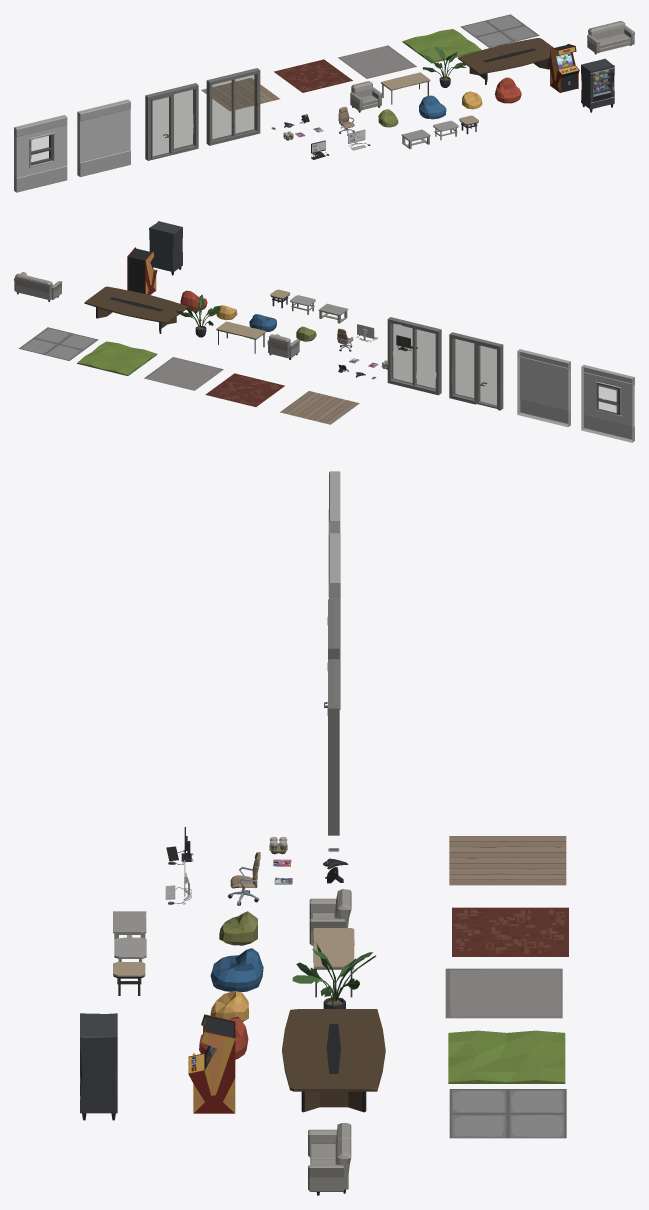
3 views of the same model, one above another, from view 1: azimuth 30°, elevation 25°; view 2: azimuth 150°, elevation 25°; view 3: azimuth 270°, elevation 25° (orthographic). The views are drawn at different scales.
Visible parts, largest first — view 1: SM_Bld_Wall_Baseboard_01, SM_Bld_Wall_Baseboard_Window_01, SM_Bld_Wall_Glass_01_Glass, SM_Prop_Table_Conference_01, SM_Bld_Wall_Glass_01, SM_Prop_VendingMachine_01, SM_Bld_Floor_Carpet_01, SM_Bld_Floor_Tiles_01, SM_Bld_Floor_Concrete_01, SM_Bld_Floor_Grass_01, SM_Bld_Wall_Glass_Door_01, SM_Bld_Floor_Wood_01 (+18 smaller); view 2: SM_Bld_Wall_Baseboard_01, SM_Bld_Wall_Baseboard_Window_01, SM_Prop_Table_Conference_01, SM_Bld_Wall_Glass_01_Glass, SM_Bld_Wall_Glass_01, SM_Bld_Floor_Grass_01, SM_Prop_VendingMachine_01, SM_Bld_Floor_Concrete_01, SM_Bld_Floor_Carpet_01, SM_Bld_Floor_Wood_01, SM_Bld_Floor_Tiles_01, SM_Bld_Wall_Glass_Door_01 (+12 smaller); view 3: SM_Prop_Table_Conference_01, SM_Bld_Floor_Grass_01, SM_Bld_Floor_Concrete_01, SM_Bld_Floor_Wood_01, SM_Bld_Floor_Tiles_01, SM_Bld_Floor_Carpet_01, SM_Prop_ArcadeMachine_01, SM_Prop_VendingMachine_01, SM_Prop_Couch_02, SM_Bld_Wall_Glass_01, SM_Prop_Chair_BeanBag_02, SM_Prop_Desk_01 (+4 smaller).
Part boxes in pixels (box(x1,y1,x2,y2)): SM_Bld_Wall_Baseboard_01: box(77, 99, 130, 176); SM_Bld_Wall_Baseboard_Window_01: box(14, 115, 67, 192); SM_Bld_Wall_Glass_01_Glass: box(212, 74, 255, 140); SM_Prop_Table_Conference_01: box(458, 38, 553, 84); SM_Bld_Wall_Glass_01: box(206, 68, 260, 145); SM_Prop_VendingMachine_01: box(581, 58, 614, 112); SM_Bld_Floor_Carpet_01: box(274, 59, 352, 92); SM_Bld_Floor_Tiles_01: box(460, 14, 539, 47); SM_Bld_Floor_Concrete_01: box(338, 45, 416, 78); SM_Bld_Floor_Grass_01: box(402, 29, 481, 63); SM_Bld_Wall_Glass_Door_01: box(145, 83, 198, 160); SM_Bld_Floor_Wood_01: box(201, 78, 279, 111); SM_Bld_Wall_Baseboard_01: box(517, 349, 570, 427); SM_Bld_Wall_Baseboard_Window_01: box(581, 365, 634, 442); SM_Prop_Table_Conference_01: box(84, 286, 188, 333); SM_Bld_Wall_Glass_01_Glass: box(392, 324, 436, 389); SM_Bld_Wall_Glass_01: box(387, 317, 441, 395); SM_Bld_Floor_Grass_01: box(77, 341, 157, 375); SM_Prop_VendingMachine_01: box(149, 221, 182, 275); SM_Bld_Floor_Concrete_01: box(144, 357, 223, 390); SM_Bld_Floor_Carpet_01: box(205, 373, 284, 406); SM_Bld_Floor_Wood_01: box(280, 391, 359, 424); SM_Bld_Floor_Tiles_01: box(19, 327, 98, 360); SM_Bld_Wall_Glass_Door_01: box(449, 332, 503, 410); SM_Prop_Table_Conference_01: box(282, 1009, 385, 1112); SM_Bld_Floor_Grass_01: box(448, 1030, 565, 1083); SM_Bld_Floor_Concrete_01: box(445, 968, 562, 1018); SM_Bld_Floor_Wood_01: box(449, 836, 566, 885); SM_Bld_Floor_Tiles_01: box(449, 1089, 566, 1138); SM_Bld_Floor_Carpet_01: box(452, 907, 568, 956); SM_Prop_ArcadeMachine_01: box(188, 1014, 235, 1113); SM_Prop_VendingMachine_01: box(80, 1013, 117, 1120); SM_Prop_Couch_02: box(308, 1123, 351, 1195); SM_Bld_Wall_Glass_01: box(328, 659, 339, 835); SM_Prop_Chair_BeanBag_02: box(210, 948, 263, 991); SM_Prop_Desk_01: box(313, 928, 354, 997).
Size of the model in its own units: 30.3 by 3.07 by 10.45.
Materials: 4 (4 with a texture image).
